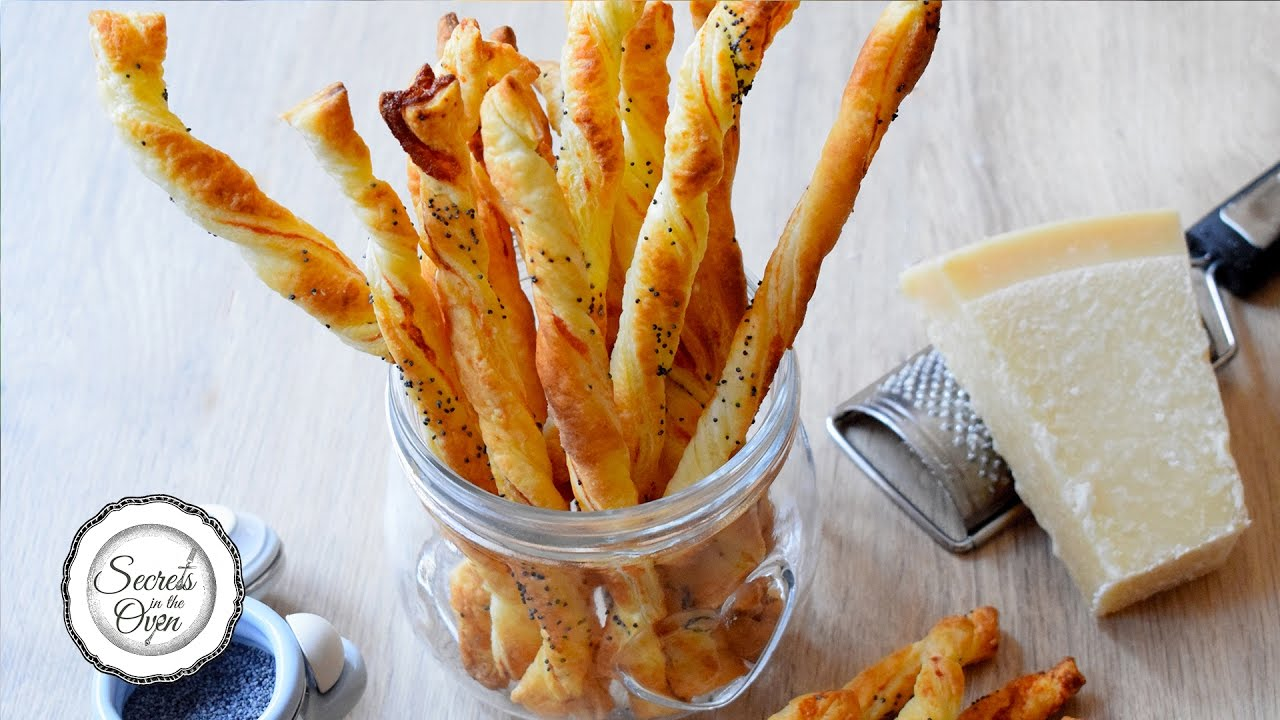cheese: (295, 84, 830, 406)
